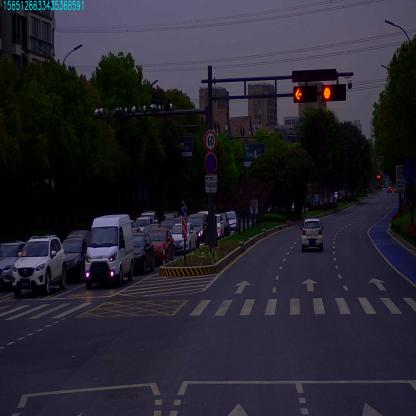traffic-light: (292, 86, 317, 104), (322, 84, 344, 100)
